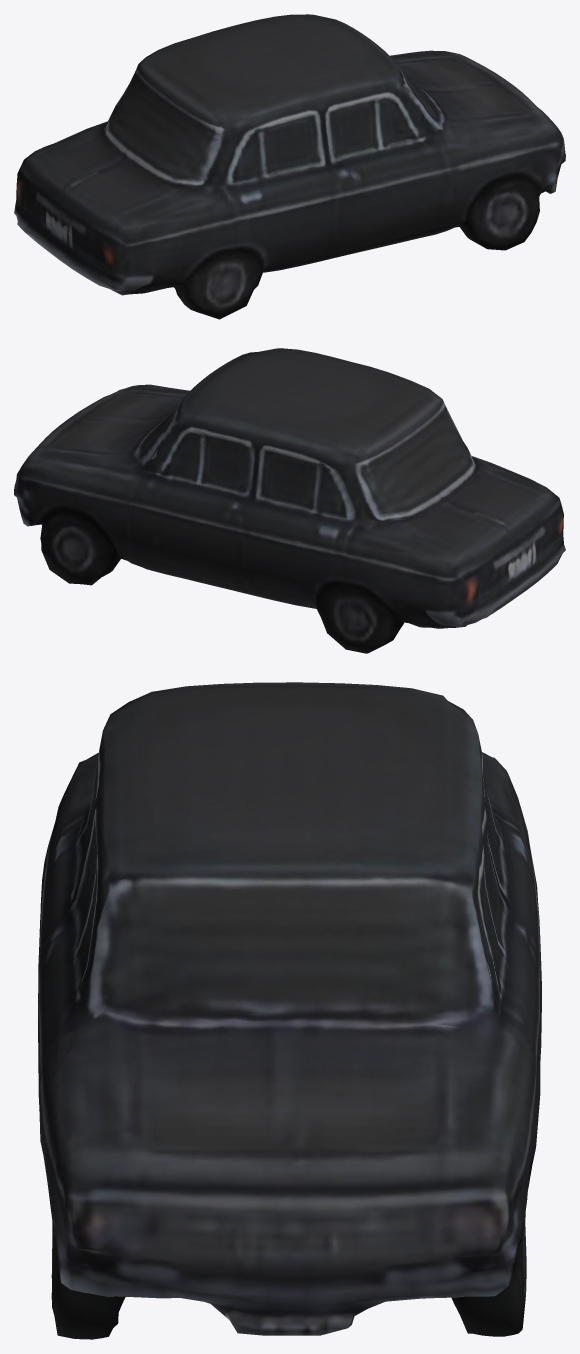
The model's file is f83bb7aed753_Old_Soviet_era_car_.fbx.
3 renders of one model, top to bottom at view 1: azimuth 30°, elevation 25°; view 2: azimuth 150°, elevation 25°; view 3: azimuth 270°, elevation 25°, orthographic. The views are drawn at different scales.
Visible parts, largest first — view 1: mesh; view 2: mesh; view 3: mesh.
Part boxes in pixels (x1=…): mesh: x1=14, y1=14, x2=565, y2=319; mesh: x1=14, y1=348, x2=565, y2=653; mesh: x1=38, y1=682, x2=541, y2=1339.
Size of the model in its own units: 4.76 by 2.24 by 1.95.
